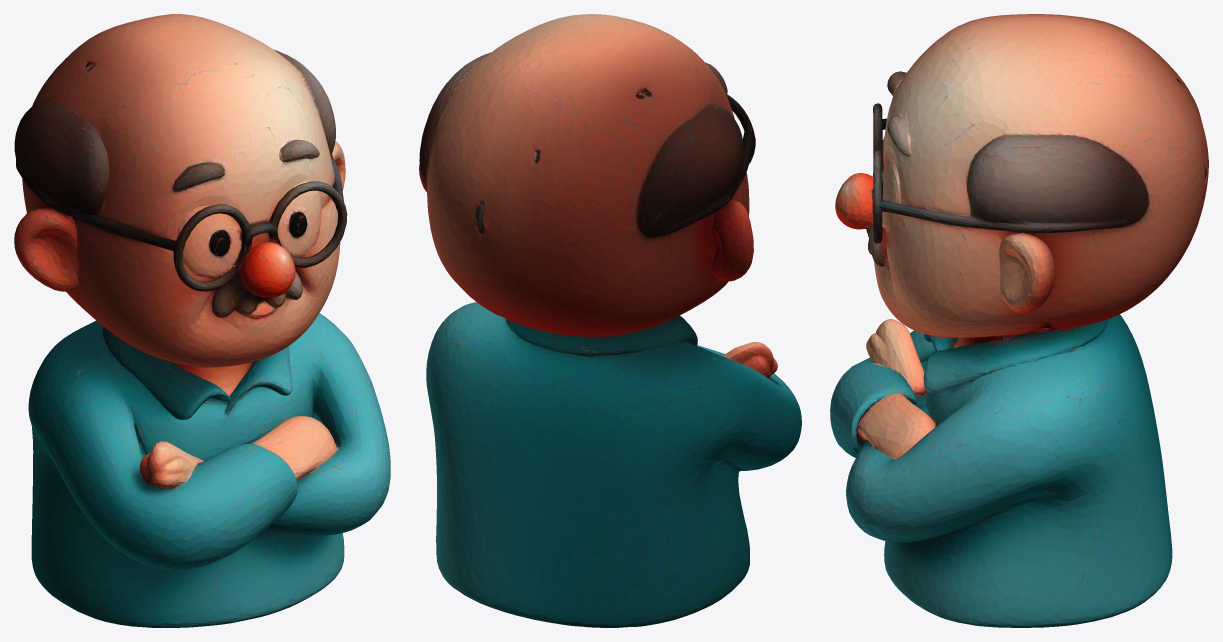
Rendered from AnimePistol_Textured_00095_.glb.
3 renders of one model, left to right at view 1: azimuth 30°, elevation 25°; view 2: azimuth 150°, elevation 25°; view 3: azimuth 270°, elevation 25°, orthographic.
Parts seen in each view (by area): view 1: world; view 2: world; view 3: world.
Boxes of the visible parts, x1,y1,x2,y2 form: world: (14, 14, 390, 627); world: (419, 14, 801, 627); world: (830, 14, 1208, 627).
Size of the model in its own units: 0.6446 by 1 by 0.6386.
Materials: 1 (1 with a texture image).
